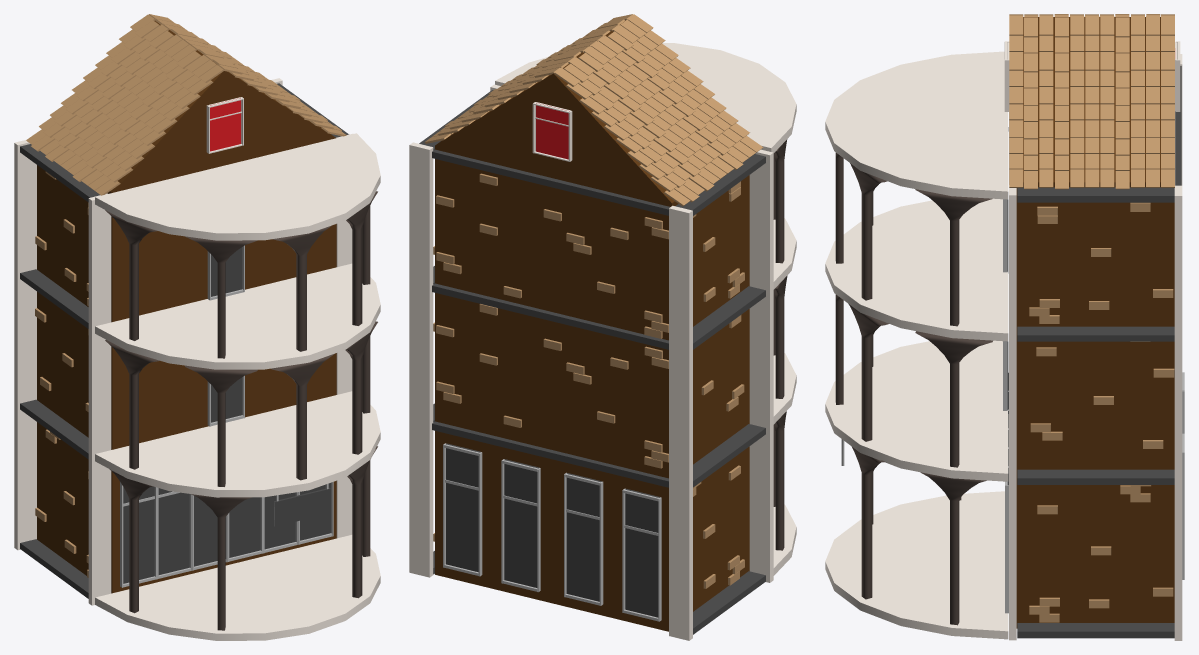
File: HUB_Bld_InsuranceAgency.fbx
3 renders of one model, left to right at view 1: azimuth 30°, elevation 25°; view 2: azimuth 150°, elevation 25°; view 3: azimuth 270°, elevation 25°, orthographic. The views are drawn at different scales.
Visible parts, largest first — view 1: polySurface989; view 2: polySurface989; view 3: polySurface989.
Boxes of the visible parts, <box> form: polySurface989: <box>14,14,380,640</box>; polySurface989: <box>409,14,796,640</box>; polySurface989: <box>825,14,1184,640</box>.
Size of the model in its own units: 2638 by 4776 by 2809.
